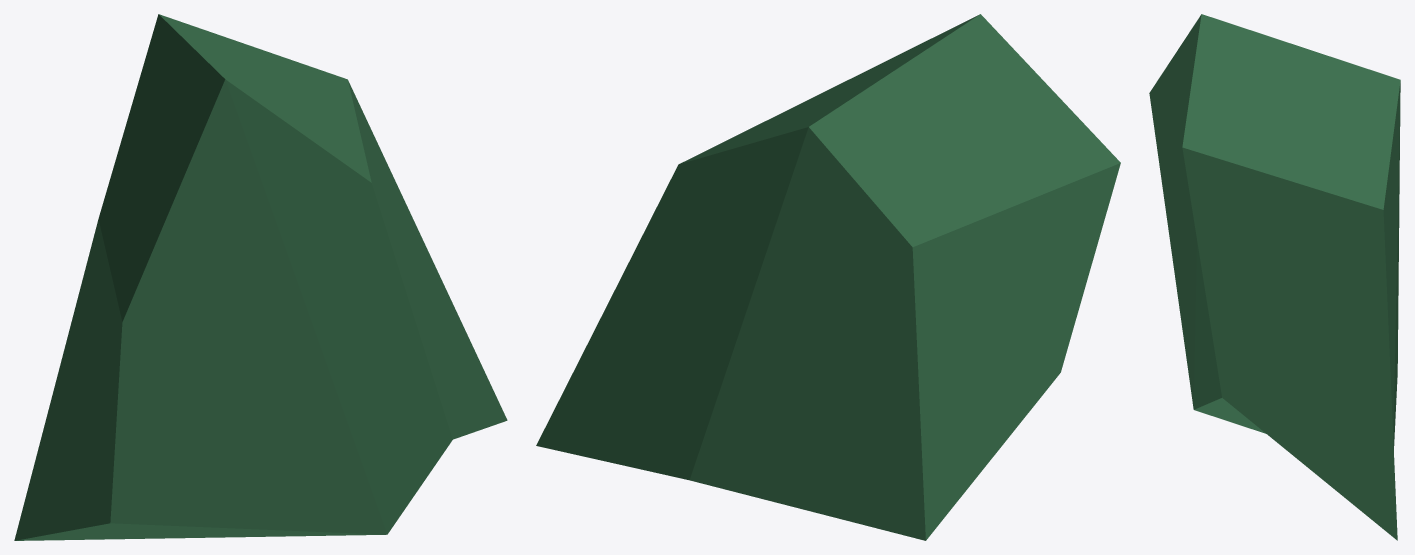
The model's file is RockDebris1.fbx.
The picture shows the model from 3 angles, left to right: view 1: azimuth 30°, elevation 25°; view 2: azimuth 150°, elevation 25°; view 3: azimuth 270°, elevation 25°; orthographic projection. The views are drawn at different scales.
Parts seen in each view (by area): view 1: RockDebris1; view 2: RockDebris1; view 3: RockDebris1.
Part boxes in pixels (bbox=[...]): RockDebris1: bbox=[14, 14, 507, 540]; RockDebris1: bbox=[536, 14, 1120, 540]; RockDebris1: bbox=[1149, 14, 1400, 540].
Bounding box in the file's own units: 65.86 × 61.18 × 36.4.
